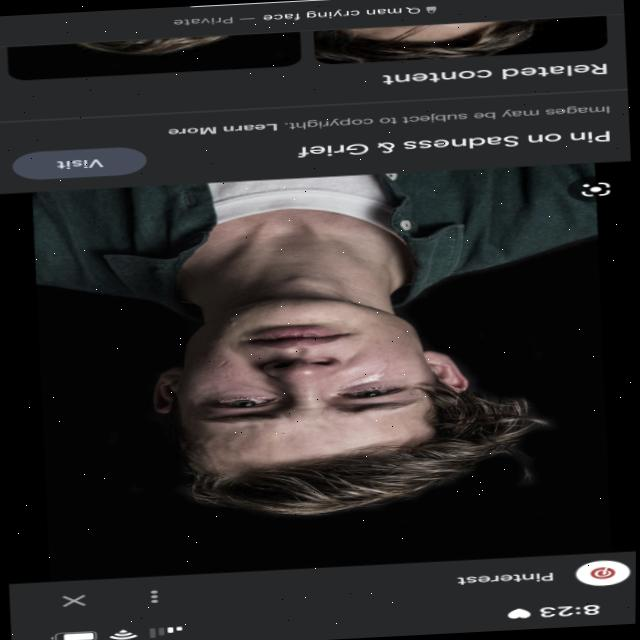sad: (146, 301, 542, 489)
